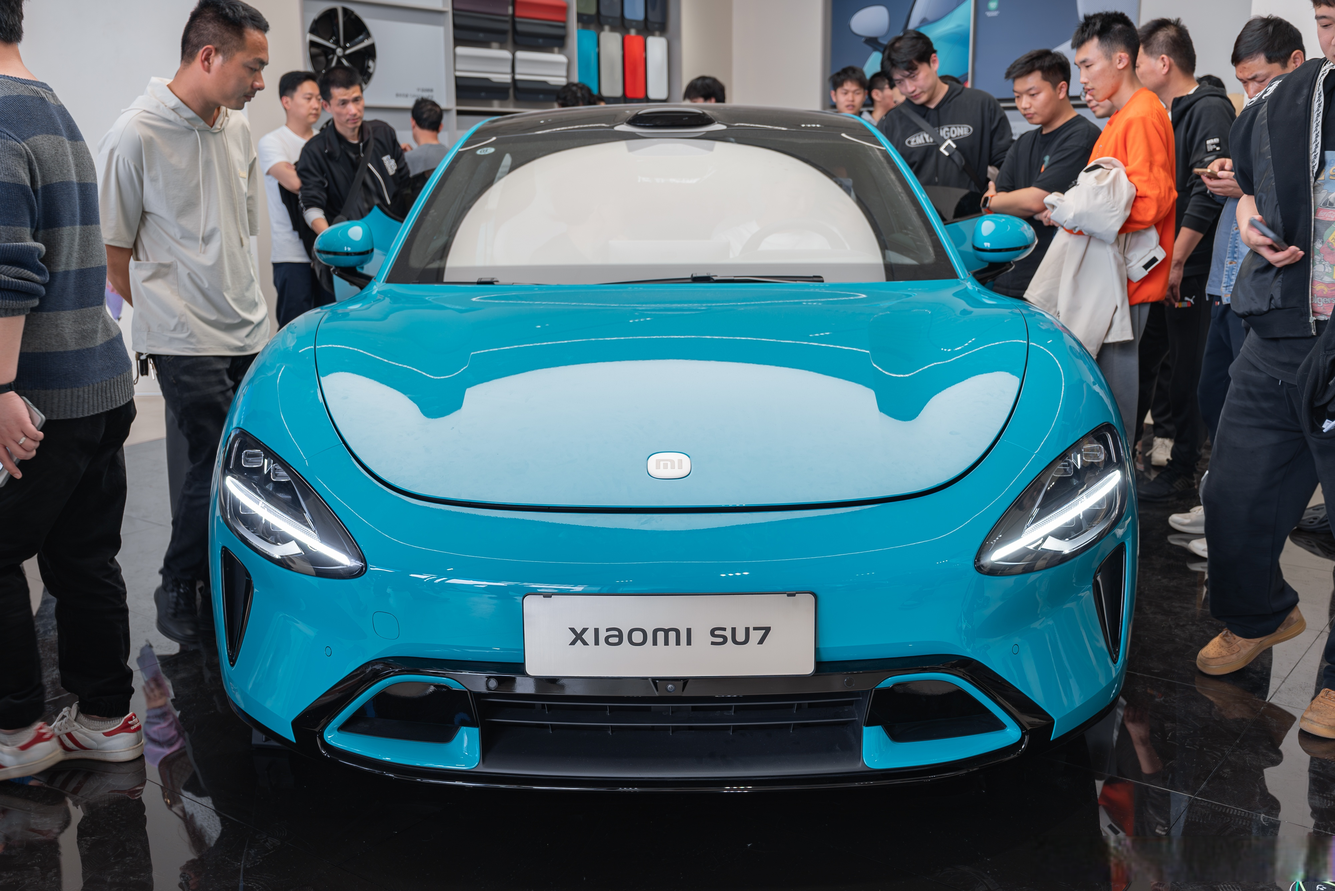su7: (198, 85, 1133, 788)
